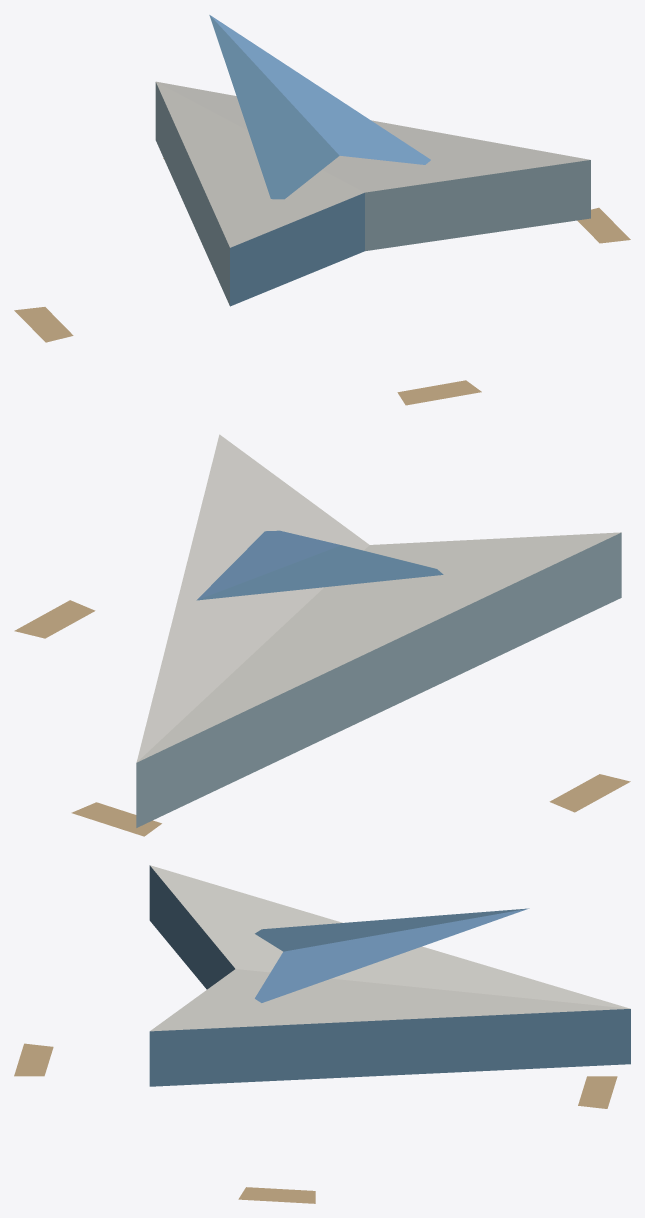
The model's file is wayfinder.glb.
3 renders of one model, top to bottom at view 1: azimuth 30°, elevation 25°; view 2: azimuth 150°, elevation 25°; view 3: azimuth 270°, elevation 25°, orthographic. The views are drawn at different scales.
Visible parts, largest first — view 1: wayfinder; view 2: wayfinder; view 3: wayfinder.
Boxes of the visible parts, <box> form: wayfinder: <box>14,15,630,405</box>; wayfinder: <box>14,434,630,836</box>; wayfinder: <box>14,865,630,1203</box>.
Size of the model in its own units: 3.16 by 0.97 by 3.23.
